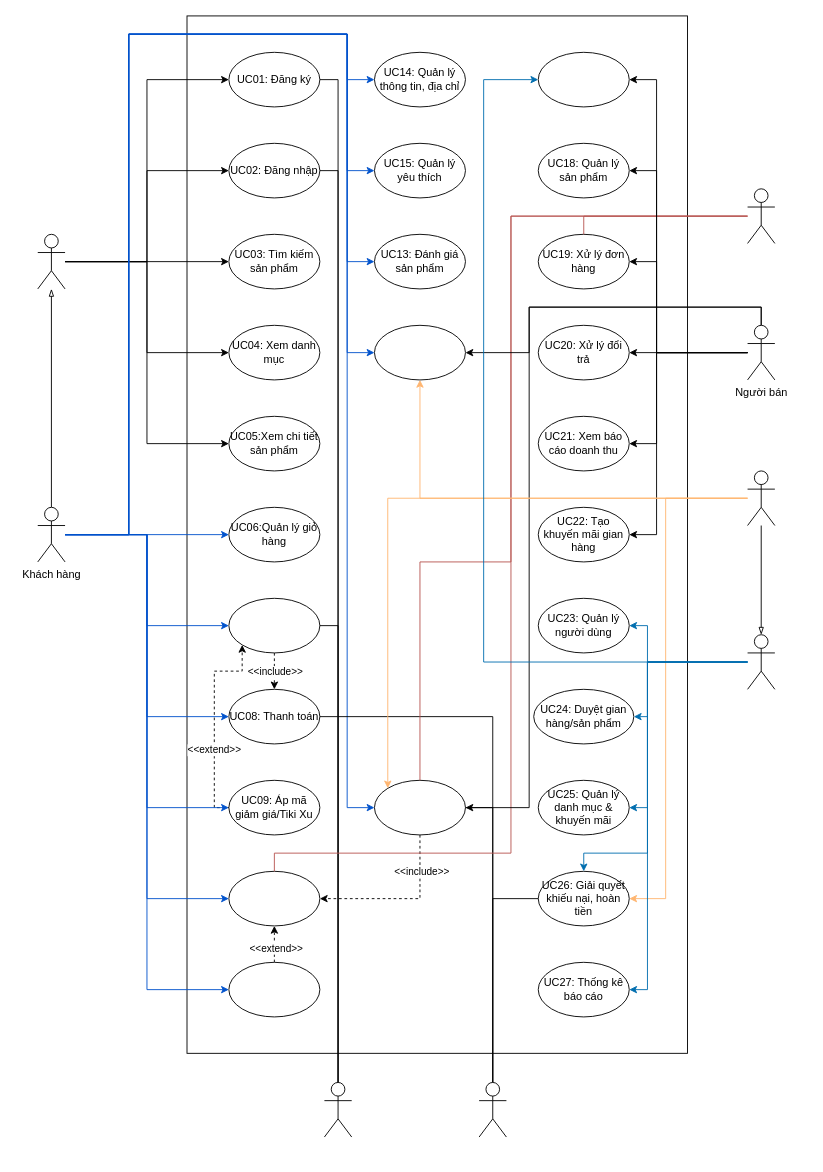
Some shapes in this 823 by 1172 pixel diagram are drawn without their labels. Each missing label, with the centre of its shape:
Cổng thanh toán: pixel 492 1109
Dịch vụ SMS/Email: pixel 338 1109
Khách vãng lai: pixel 51 261
Nhân viên CSKH: pixel 761 498
Quản trị viên: pixel 761 661
UC07: Đặt hàng: pixel 274 625
UC10: Theo dõi đơn hàng: pixel 274 898
UC11: Hủy đơn hàng: pixel 274 989
UC12: Yêu cầu đổi trả, hoàn tiền: pixel 419 807
UC16: Chat/Hỏi đáp: pixel 419 352
UC17: Đăng ký gian hàng: pixel 583 79
Đơn vị vận chuyển: pixel 761 215
